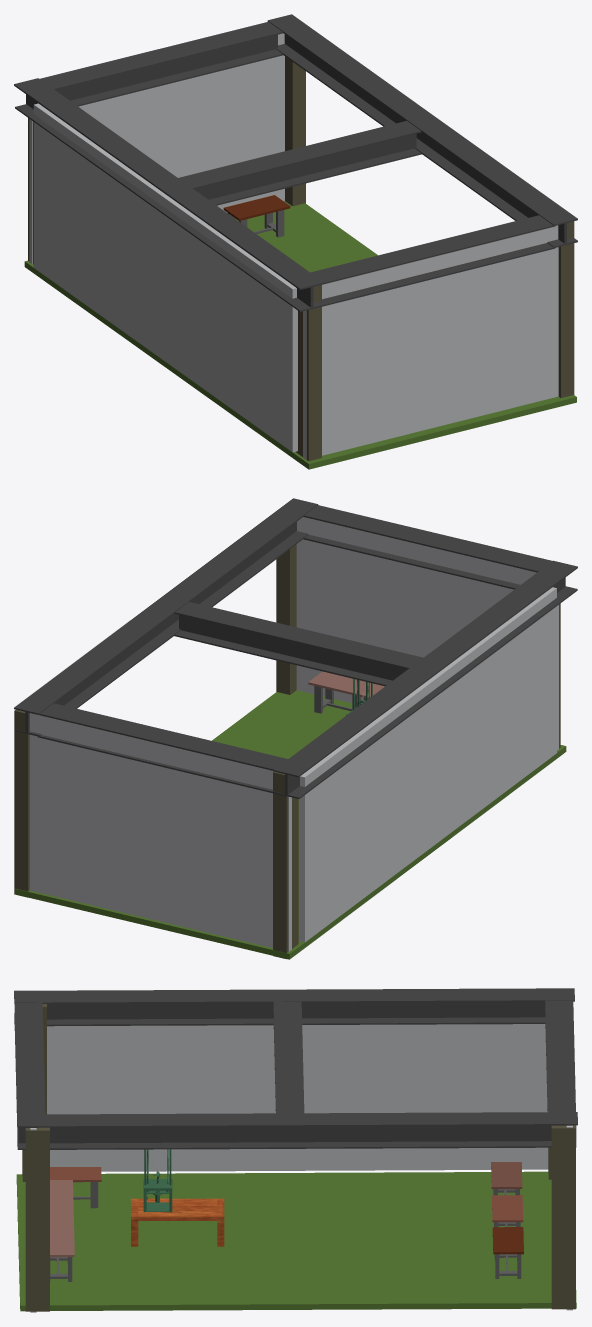
Rendered from salon.glb.
3 views of the same model, one above another, from view 1: azimuth 30°, elevation 25°; view 2: azimuth 150°, elevation 25°; view 3: azimuth 270°, elevation 25° (orthographic).
Visible parts, largest first — view 1: Vigas_Amarre, Cubo, Cubo.003, Cubo.002, Cubo.001, Cubo.006, Cubo.007, Cubo.004, Mesa.Lab3; view 2: Cubo.002, Cubo, Vigas_Amarre, Cubo.003, Cubo.001, Cubo.005, Cubo.004, Cubo.007, mesa5; view 3: Cubo.001, Cubo, Vigas_Amarre, Cubo.004, Cubo.007, Box001, Mesa.Lab3, main, mesa2, mesa5, Mesa.Lab1, Mesa.Lab2 (+3 smaller).
Part boxes in pixels (box(x1,y1,x2,y2)): Vigas_Amarre: box(14, 14, 577, 311); Cubo: box(33, 103, 297, 452); Cubo.003: box(303, 225, 558, 459); Cubo.002: box(29, 33, 284, 264); Cubo.001: box(24, 201, 576, 469); Cubo.006: box(296, 285, 321, 461); Cubo.007: box(558, 221, 574, 397); Cubo.004: box(285, 56, 305, 206); Mesa.Lab3: box(223, 195, 290, 237); Cubo.002: box(29, 713, 291, 951); Cubo: box(299, 587, 556, 942); Vigas_Amarre: box(14, 498, 577, 798); Cubo.003: box(296, 517, 558, 750); Cubo.001: box(14, 690, 566, 959); Cubo.005: box(273, 771, 298, 959); Cubo.004: box(14, 709, 29, 897); Cubo.007: box(276, 544, 296, 694); mesa5: box(308, 671, 374, 713); Cubo.001: box(16, 1171, 576, 1311); Cubo: box(47, 1024, 548, 1171); Vigas_Amarre: box(14, 988, 577, 1149); Cubo.004: box(551, 1125, 575, 1309); Cubo.007: box(25, 1127, 49, 1311); Box001: box(131, 1198, 224, 1246); Mesa.Lab3: box(492, 1227, 523, 1278); main: box(143, 1149, 172, 1212); mesa2: box(50, 1167, 101, 1208); mesa5: box(50, 1230, 74, 1281); Mesa.Lab1: box(491, 1162, 522, 1195); Mesa.Lab2: box(492, 1195, 523, 1227).
Size of the model in its own units: 10.57 by 6.61 by 18.15.
19 materials, 1 textured.
